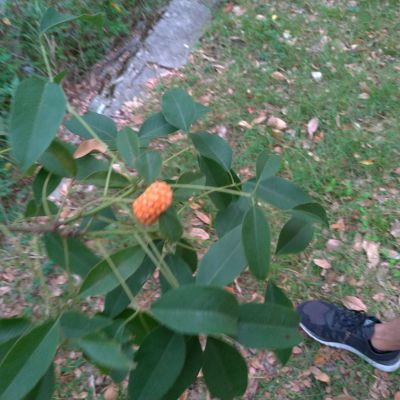eggs: (128, 178, 174, 223)
